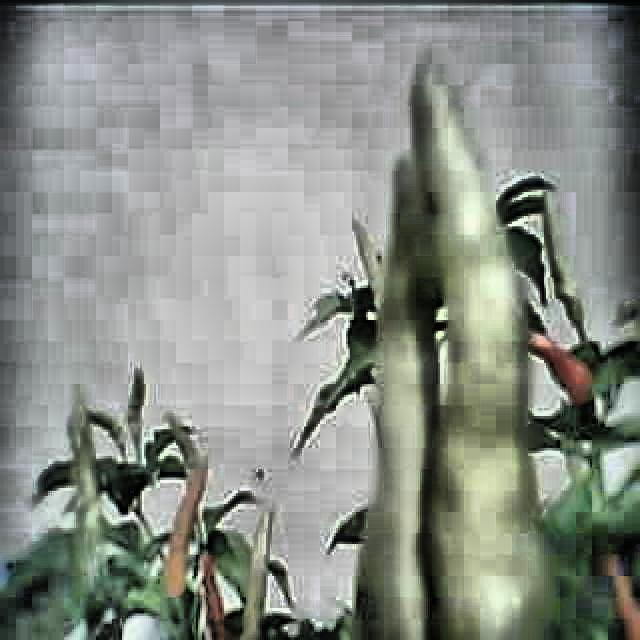Cabai: (410, 77, 529, 640), (53, 378, 122, 583), (240, 499, 280, 640), (166, 457, 203, 598), (535, 332, 590, 422), (341, 219, 393, 292), (130, 355, 145, 459)
